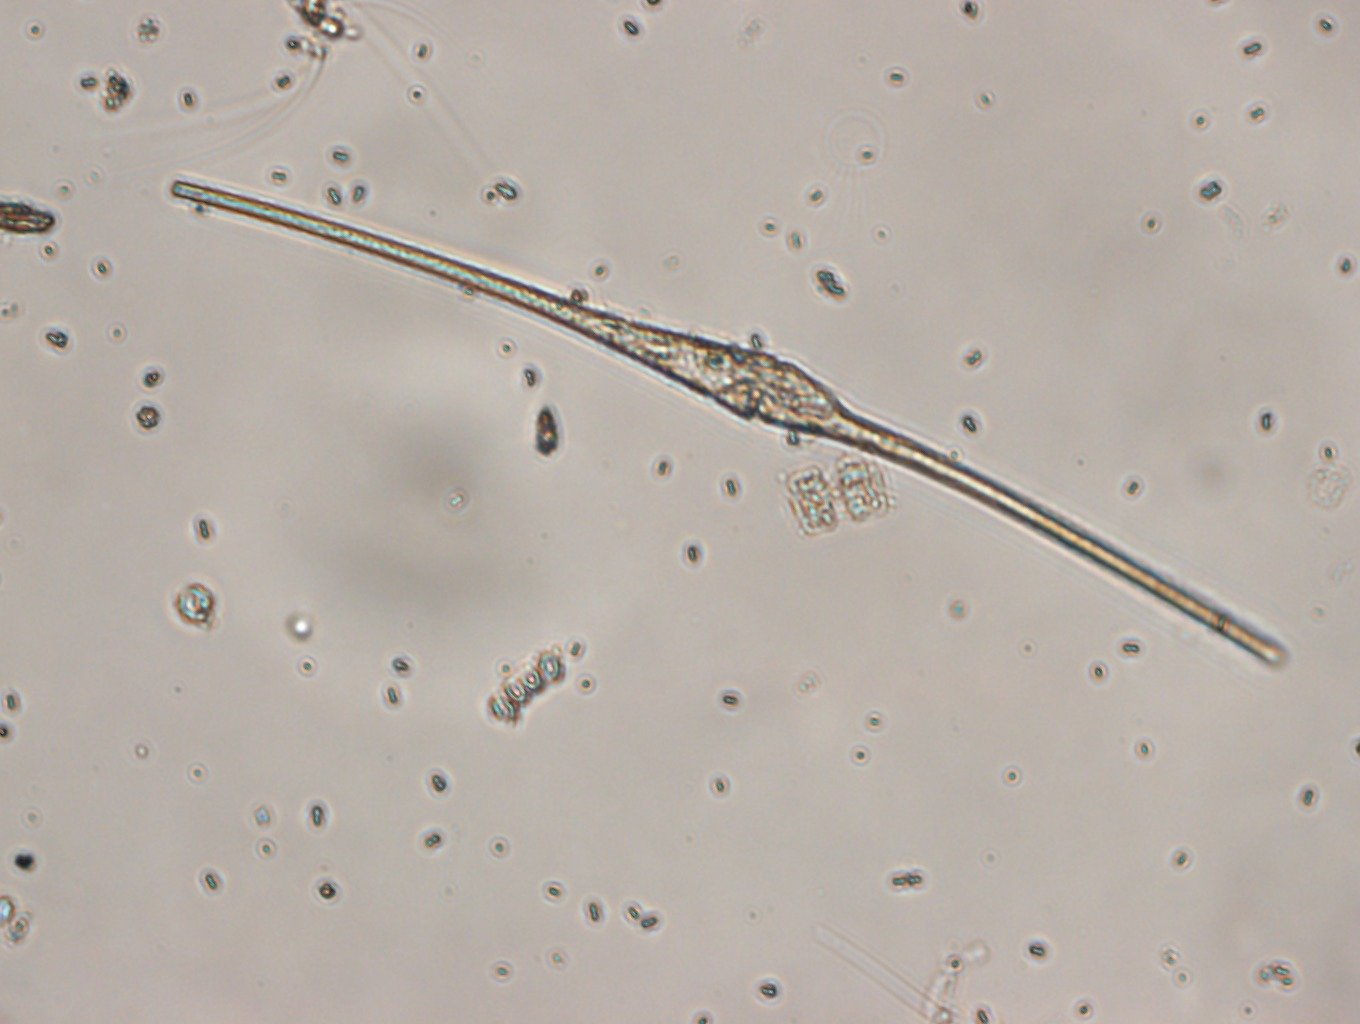ceratium fusus: (167, 172, 1290, 679)
